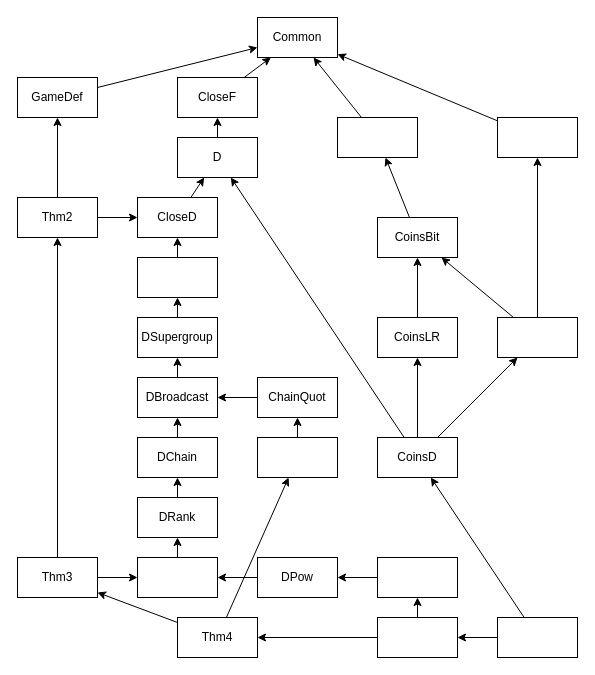
Some shapes in this 595 by 675 pixel diagram are drawn without their labels. Here are the shapes that lost their labels. From the top down, the box of each, then its label:
(336, 116, 418, 158): Coins
(496, 116, 578, 158): CoinsAux
(136, 256, 218, 298): DSubgroup
(496, 316, 578, 358): CoinsRoller
(256, 436, 338, 478): ElimList
(136, 556, 218, 598): DCore
(376, 556, 458, 598): Thm5
(376, 616, 458, 658): Final
(496, 616, 578, 658): CoinsFinal
